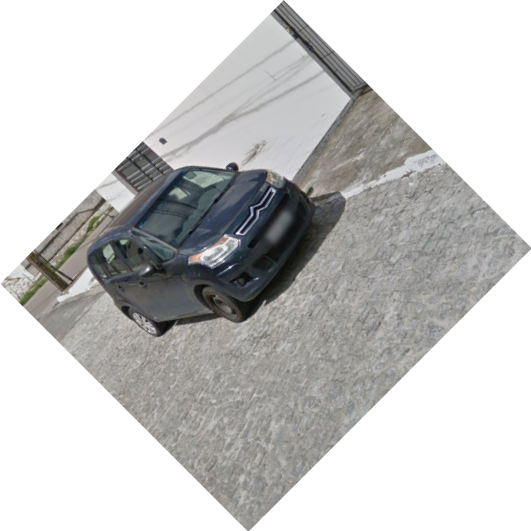car: (86, 160, 318, 339)
